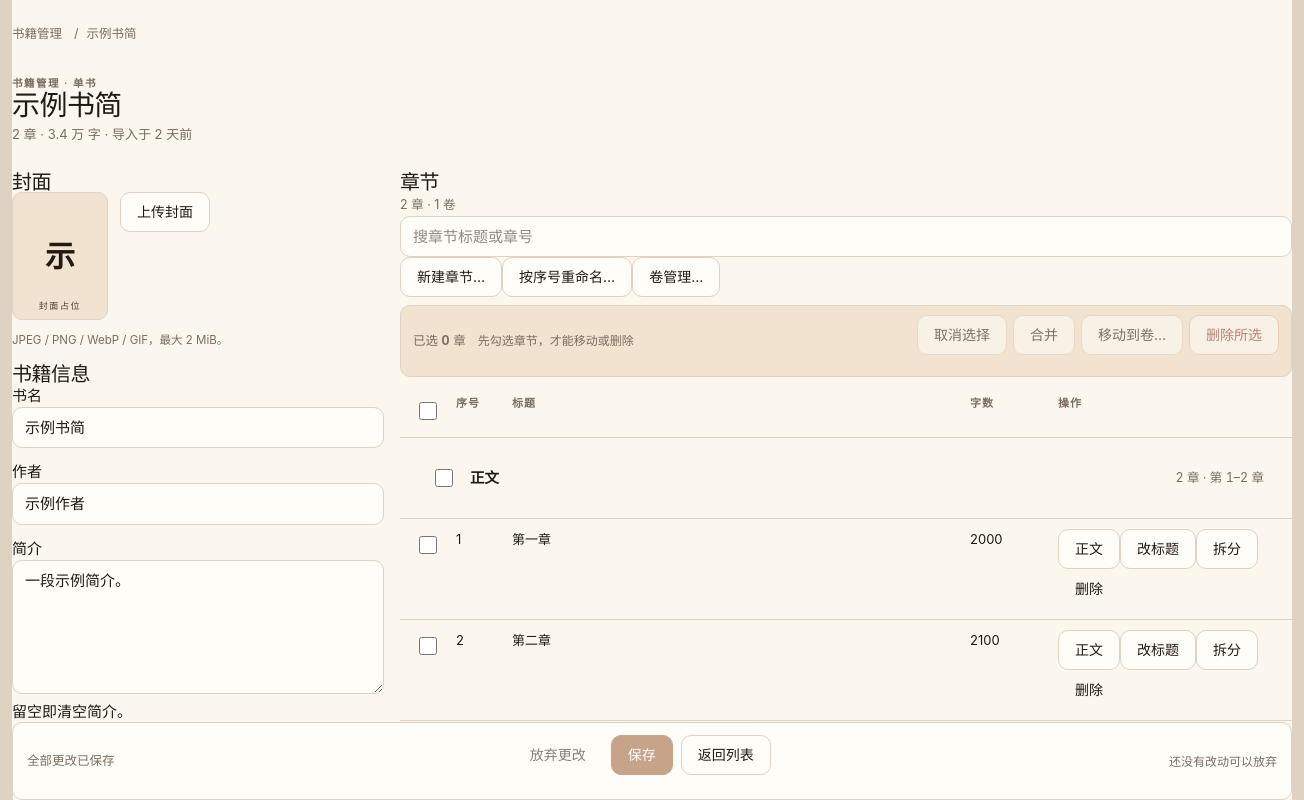
Test: 单书管理页 › 改书名后操作条提示未保存，保存只下发改过的字段
Replace the text in the field with test id "admin-title" with "新书名" at (198, 428), box [12,407,384,448]
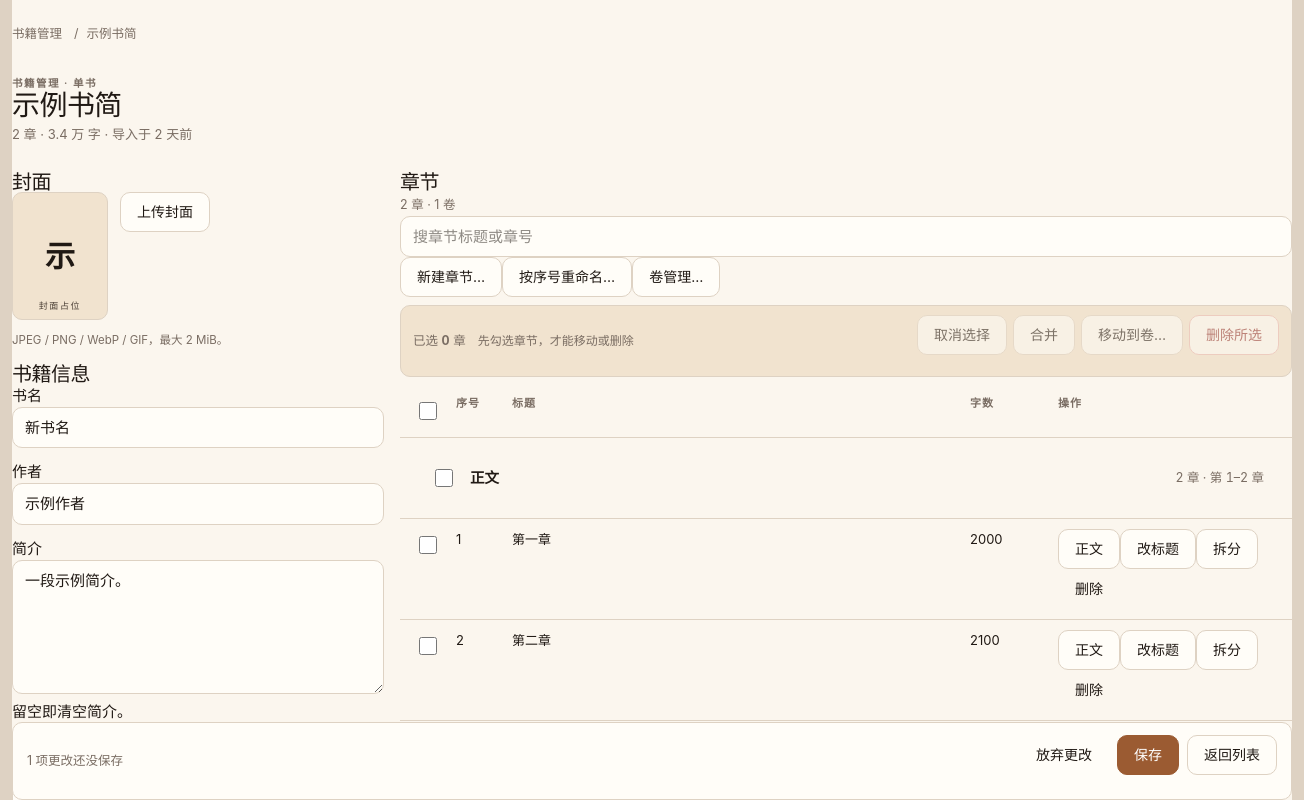
Now the text with test id "admin-dirty" reads "1 项更改还没保存", box [27,753,123,768]
Click the button with test id "admin-save" at (1148, 755), box [1117,735,1179,775]
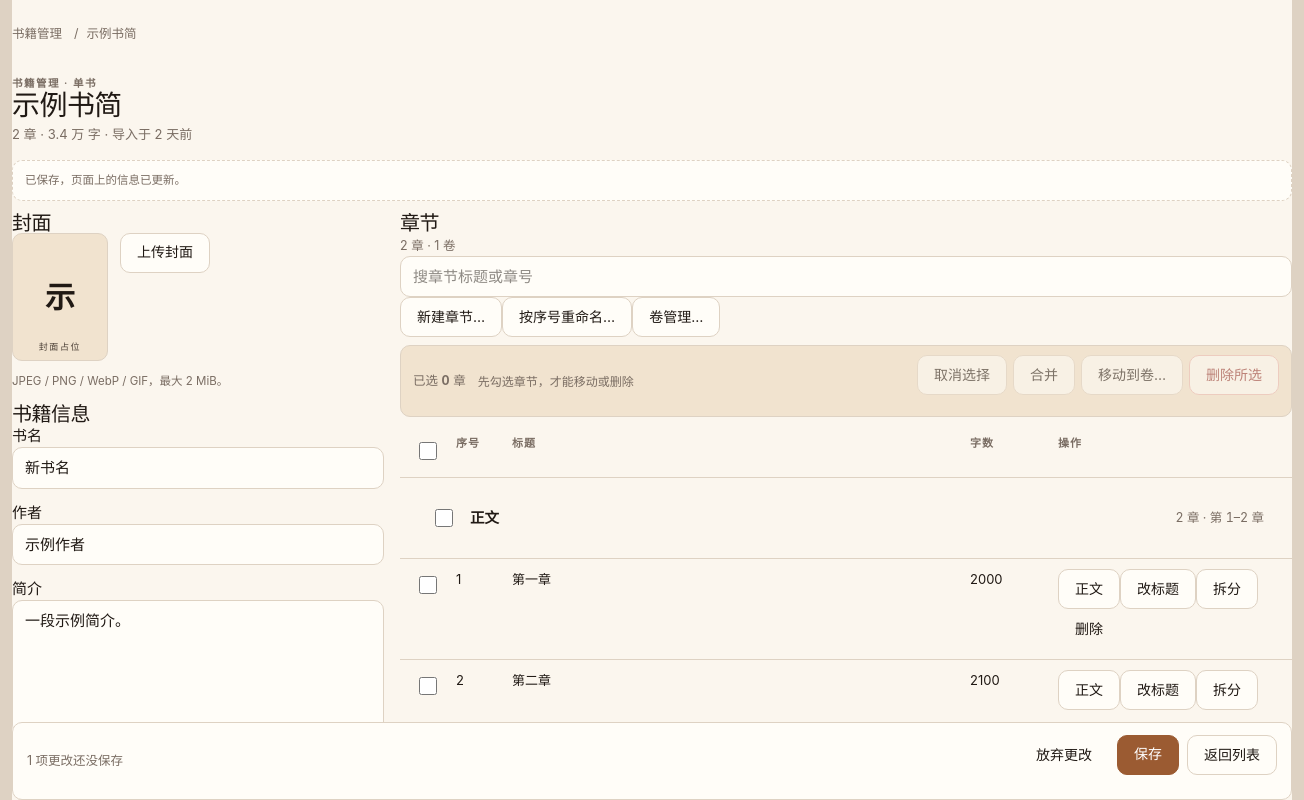
Now the message with test id "admin-book-banner" shows "已保存", box [25,173,186,187]
